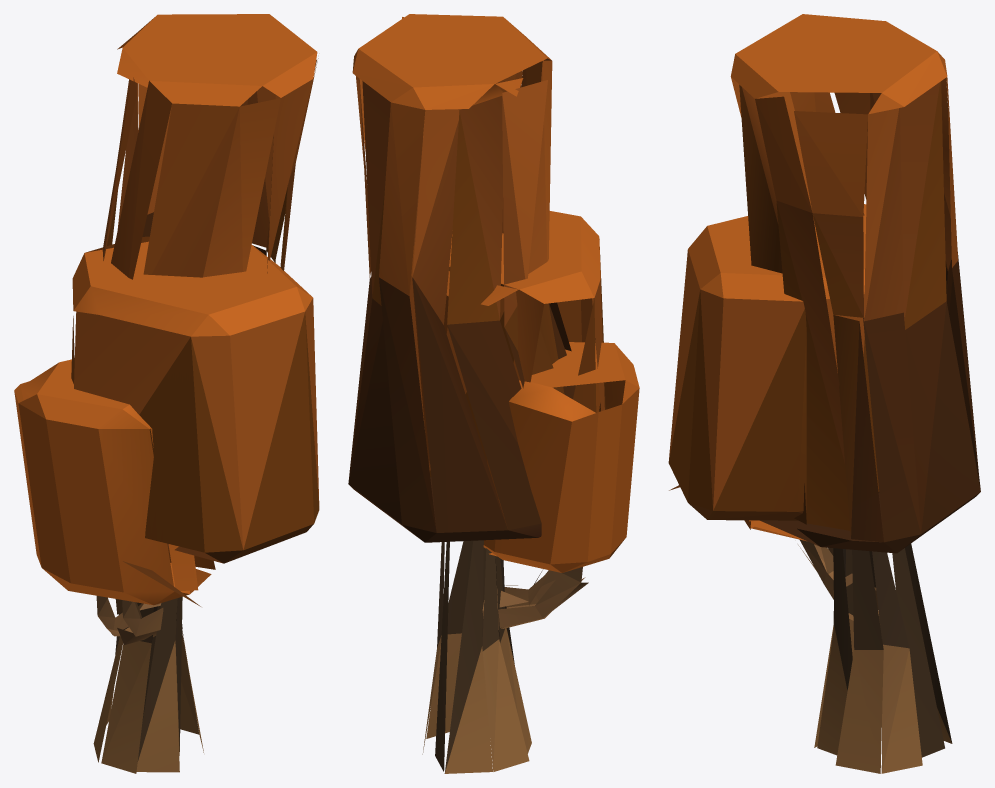
Rendered from angular_tree_stack__autumn_low.glb.
3 views of the same model, side by side, from view 1: azimuth 30°, elevation 25°; view 2: azimuth 150°, elevation 25°; view 3: azimuth 270°, elevation 25° (orthographic). The views are drawn at different scales.
Bounding box in the file's own units: 2.04 × 5.04 × 1.98.
